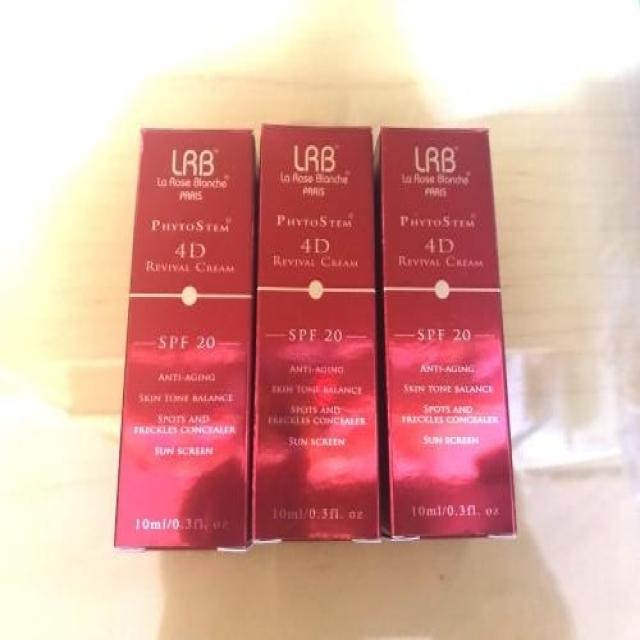box: (113, 127, 259, 552), (374, 128, 515, 539), (253, 124, 380, 547)
